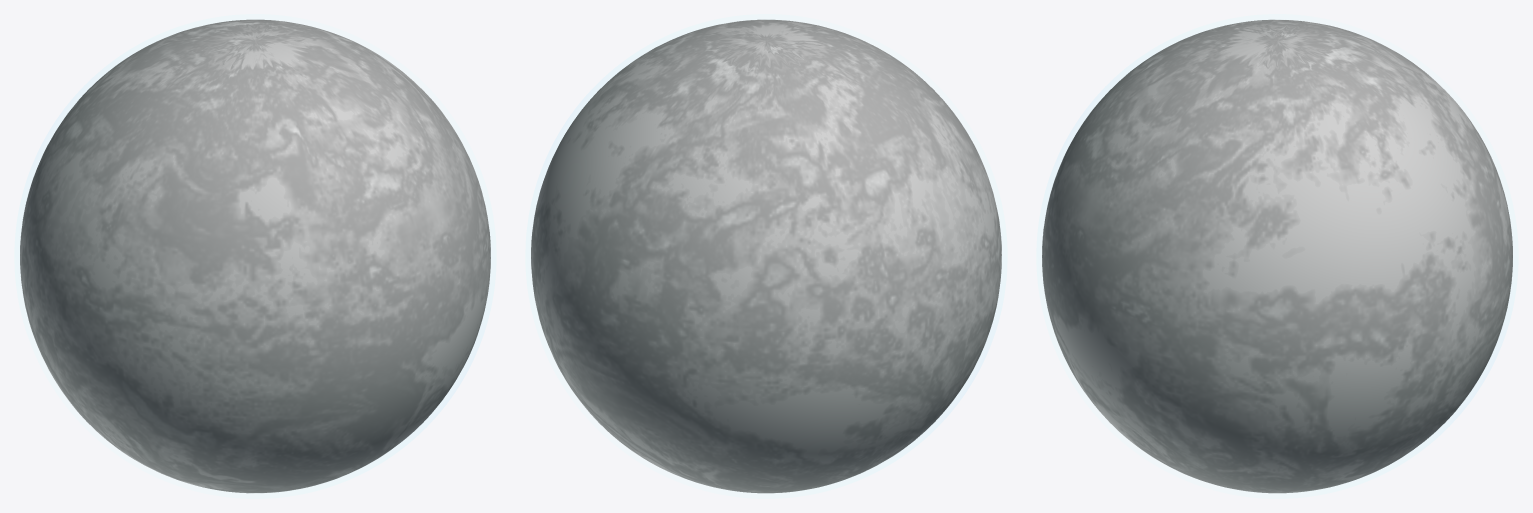
3 views of the same model, side by side, from view 1: azimuth 30°, elevation 25°; view 2: azimuth 150°, elevation 25°; view 3: azimuth 270°, elevation 25° (orthographic).
Parts seen in each view (by area): view 1: Earth_land, Earth_clouds; view 2: Earth_land, Earth_clouds; view 3: Earth_land, Earth_clouds.
Part boxes in pixels (x1,y1,x2,y2): Earth_land: (20,20,490,492); Earth_clouds: (20,19,490,493); Earth_land: (531,20,1001,492); Earth_clouds: (531,19,1001,493); Earth_land: (1042,20,1512,492); Earth_clouds: (1042,19,1512,493).
Size of the model in its own units: 20.24 by 20.45 by 20.24.
